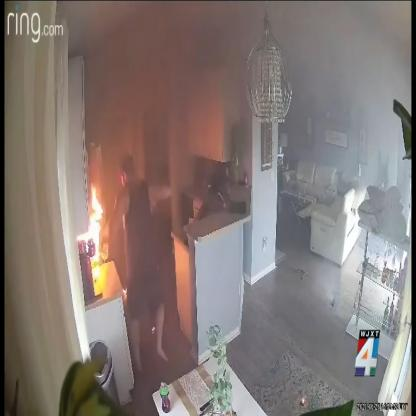fire: (87, 182, 103, 262)
